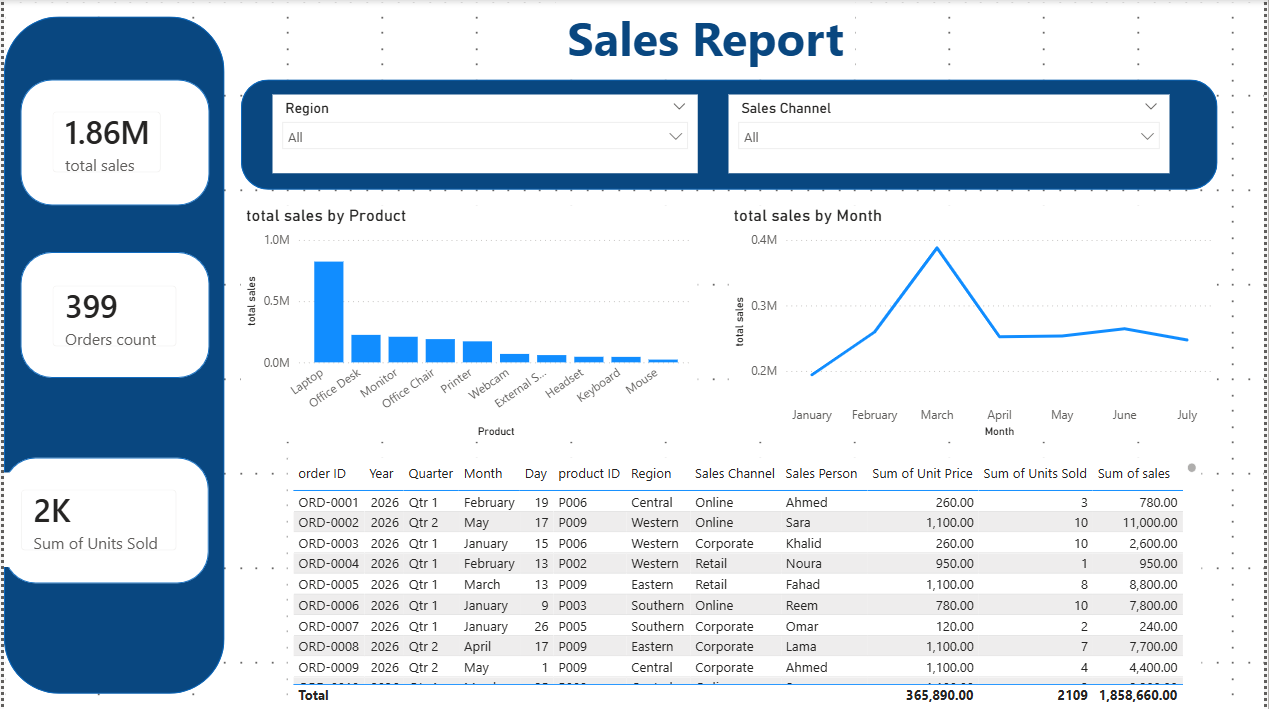

Layout of this report page (visuals, bound fields, positions):
{"tool":"powerbi","page":{"name":"Page ١","canvas":[1280,720],"ordinal":0},"visuals":[{"type":"shape","box":[0,16,224,688],"z":0},{"type":"shape","box":[240,80,992,112],"z":1000},{"type":"shape","box":[16,80,192,128],"z":2000},{"type":"textbox","box":[560,0,304,80],"z":3000},{"type":"cardVisual","fields":{"Data":["SalesTable.total sales"]},"box":[32,96,144,96],"z":4000},{"type":"shape","box":[16,256,192,128],"z":5000},{"type":"cardVisual","fields":{"Data":["SalesTable.Orders count"]},"box":[32,272,160,96],"z":6000},{"type":"columnChart","fields":{"Y":["SalesTable.total sales"],"Category":["ProductsTable.Product"]},"box":[240,208,464,240],"z":7000},{"type":"lineChart","fields":{"Category":["SalesTable.Order Date.Variation.Date Hierarchy.Month","SalesTable.Order Date.Variation.Date Hierarchy.Day"],"Y":["SalesTable.total sales"]},"box":[736,208,496,240],"z":8000},{"type":"tableEx","fields":{"Values":["SalesTable.order ID","SalesTable.Order Date.Variation.Date Hierarchy.Year","SalesTable.Order Date.Variation.Date Hierarchy.Quarter","SalesTable.Order Date.Variation.Date Hierarchy.Month","SalesTable.Order Date.Variation.Date Hierarchy.Day","SalesTable.product ID","SalesTable.Region","SalesTable.Sales Channel","SalesTable.Sales Person","Sum(SalesTable.Unit Price)","Sum(SalesTable.Units Sold)","Sum(SalesTable.sales)"]},"box":[288,464,928,256],"z":9000},{"type":"slicer","fields":{"Values":["SalesTable.Region"]},"box":[272,96,432,80],"z":10000},{"type":"slicer","fields":{"Values":["SalesTable.Sales Channel"]},"box":[736,96,448,80],"z":11000},{"type":"shape","box":[0,464,208,128],"z":12000},{"type":"cardVisual","fields":{"Data":["Sum(SalesTable.Units Sold)"]},"box":[0,480,192,96],"z":13000}]}

Visuals, with their boxes in screenshot pixels (x1, y1, x2, y2), scaled from the page's 1280x720 canvas onto the 1269x709 screenshot:
shape: box=[0, 16, 222, 693]
shape: box=[238, 79, 1221, 189]
shape: box=[16, 79, 206, 205]
textbox: box=[555, 0, 857, 79]
cardVisual - SalesTable.total sales: box=[32, 95, 174, 189]
shape: box=[16, 252, 206, 378]
cardVisual - SalesTable.Orders count: box=[32, 268, 190, 362]
columnChart - SalesTable.total sales x ProductsTable.Product: box=[238, 205, 698, 441]
lineChart - SalesTable.Order Date.Variation.Date Hierarchy.Month x SalesTable.Order Date.Variation.Date Hierarchy.Day: box=[730, 205, 1221, 441]
tableEx - SalesTable.order ID x SalesTable.Order Date.Variation.Date Hierarchy.Year: box=[286, 457, 1206, 708]
slicer - SalesTable.Region: box=[270, 95, 698, 173]
slicer - SalesTable.Sales Channel: box=[730, 95, 1174, 173]
shape: box=[0, 457, 206, 583]
cardVisual - Sum(SalesTable.Units Sold): box=[0, 473, 190, 567]
